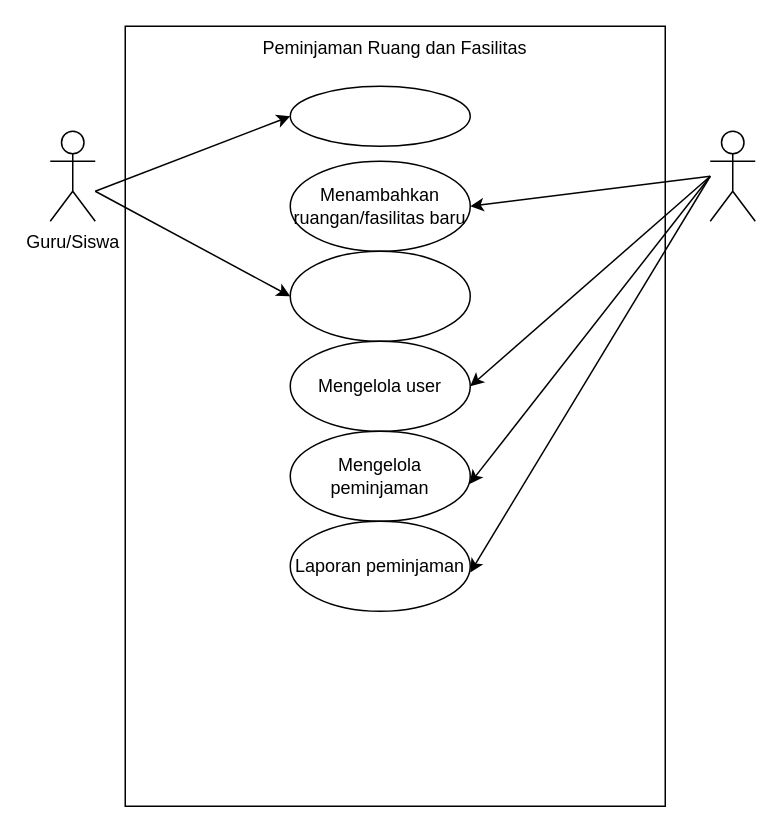
This 783x833 diagram has some shape labels left out. The shapes that lost their labels are listed below. From the top down, each one's box as (x1, y1, x2, y2) in pixels, then its label:
(289, 85, 470, 146): Meminjam ruangan/fasilitas
(709, 130, 755, 221): Admin
(289, 250, 470, 341): Melihat status peminjaman
